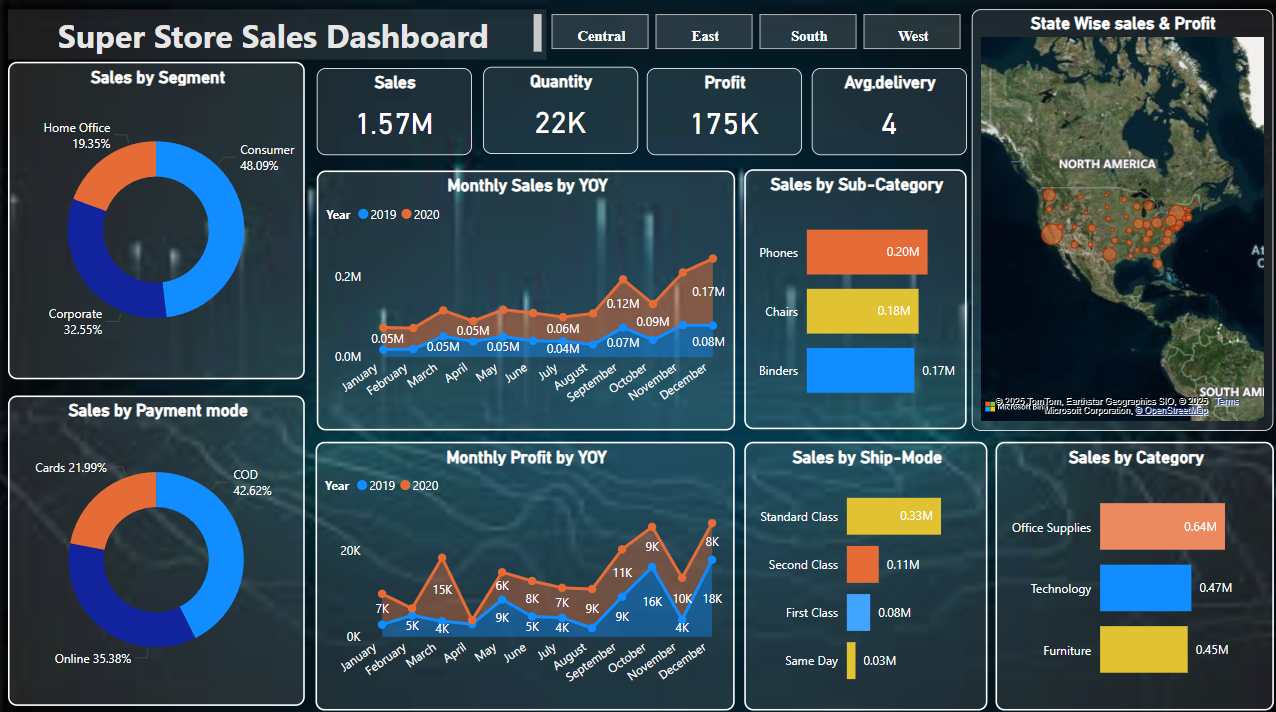

Layout of this report page (visuals, bound fields, positions):
{"tool":"powerbi","page":{"name":"sales Dashboard","canvas":[1280,720],"ordinal":0},"visuals":[{"type":"barChart","title":"Sales by Category","fields":{"Category":["SuperStore_Sales_Dataset.Category"],"Y":["Sum(SuperStore_Sales_Dataset.Sales)"]},"box":[997.1,444.3,278.6,268.6],"z":0},{"type":"barChart","title":"Sales by Sub-Category","fields":{"Y":["Sum(SuperStore_Sales_Dataset.Sales)"],"Category":["SuperStore_Sales_Dataset.Sub-Category"]},"box":[745.7,171.4,222,260],"z":1000},{"type":"barChart","title":"Sales by Ship-Mode","fields":{"Y":["Sum(SuperStore_Sales_Dataset.Sales)"],"Category":["SuperStore_Sales_Dataset.Ship Mode"]},"box":[745.7,444.3,243,268.6],"z":2000},{"type":"stackedAreaChart","title":"Monthly Sales by YOY","fields":{"Y":["Sum(SuperStore_Sales_Dataset.Sales)"],"Category":["SuperStore_Sales_Dataset.Order Date.Variation.Date Hierarchy.Month","SuperStore_Sales_Dataset.Order Date.Variation.Date Hierarchy.Day"],"Series":["SuperStore_Sales_Dataset.Order Date.Variation.Date Hierarchy.Year"]},"box":[318.6,172.9,418.6,260],"z":3000},{"type":"stackedAreaChart","title":"Monthly Profit by YOY","fields":{"Category":["SuperStore_Sales_Dataset.Order Date.Variation.Date Hierarchy.Month","SuperStore_Sales_Dataset.Order Date.Variation.Date Hierarchy.Day"],"Series":["SuperStore_Sales_Dataset.Order Date.Variation.Date Hierarchy.Year"],"Y":["Sum(SuperStore_Sales_Dataset.Profit)"]},"box":[317.1,444.3,419,268.6],"z":4000},{"type":"map","title":"State Wise sales & Profit","fields":{"Category":["SuperStore_Sales_Dataset.State"],"Size":["Sum(SuperStore_Sales_Dataset.Sales)"]},"box":[974.3,11.4,301.4,421.4],"z":5000},{"type":"donutChart","title":"Sales by Segment","fields":{"Category":["SuperStore_Sales_Dataset.Segment"],"Y":["Sum(SuperStore_Sales_Dataset.Sales)"]},"box":[9.7,63.9,296.8,317.3],"z":6000},{"type":"donutChart","title":"Sales by Payment mode","fields":{"Y":["Sum(SuperStore_Sales_Dataset.Sales)"],"Category":["SuperStore_Sales_Dataset.Payment Mode"]},"box":[10,397.1,297.1,310],"z":7000},{"type":"advancedSlicerVisual","fields":{"Values":["SuperStore_Sales_Dataset.Region"]},"box":[548.6,11.4,421,45.7],"z":8000},{"type":"textbox","box":[10,11.4,538.6,50],"z":9000},{"type":"card","title":"Sales","fields":{"Values":["Sum(SuperStore_Sales_Dataset.Sales)"]},"box":[318.6,70,155,87.1],"z":10000},{"type":"card","title":"Quantity","fields":{"Values":["Sum(SuperStore_Sales_Dataset.Quantity)"]},"box":[485,68.8,155,87.5],"z":11000},{"type":"card","title":"Profit","fields":{"Values":["Sum(SuperStore_Sales_Dataset.Profit)"]},"box":[648.8,70,155,87.5],"z":12000},{"type":"card","title":"Avg.delivery","fields":{"Values":["Avg(SuperStore_Sales_Dataset.Avg.delivery)"]},"box":[813.8,70,155,87.5],"z":13000}]}

Visuals, with their boxes in screenshot pixels (x1, y1, x2, y2), scaled from the page's 1280x720 canvas onto the 1276x712 screenshot:
"Sales by Category" barChart: (994,439,1272,705)
"Sales by Sub-Category" barChart: (743,169,965,427)
"Sales by Ship-Mode" barChart: (743,439,986,705)
"Monthly Sales by YOY" stackedAreaChart: (318,171,735,428)
"Monthly Profit by YOY" stackedAreaChart: (316,439,734,705)
"State Wise sales & Profit" map: (971,11,1272,428)
"Sales by Segment" donutChart: (10,63,306,377)
"Sales by Payment mode" donutChart: (10,393,306,699)
advancedSlicerVisual - SuperStore_Sales_Dataset.Region: (547,11,967,56)
textbox: (10,11,547,61)
"Sales" card: (318,69,472,155)
"Quantity" card: (483,68,638,155)
"Profit" card: (647,69,801,156)
"Avg.delivery" card: (811,69,966,156)
